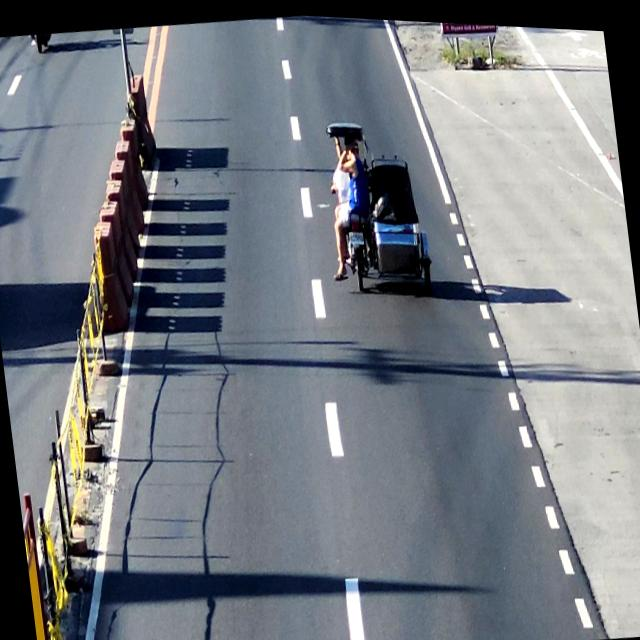License-Plate: (346, 224, 366, 247)
Tricycle: (318, 104, 440, 303)
